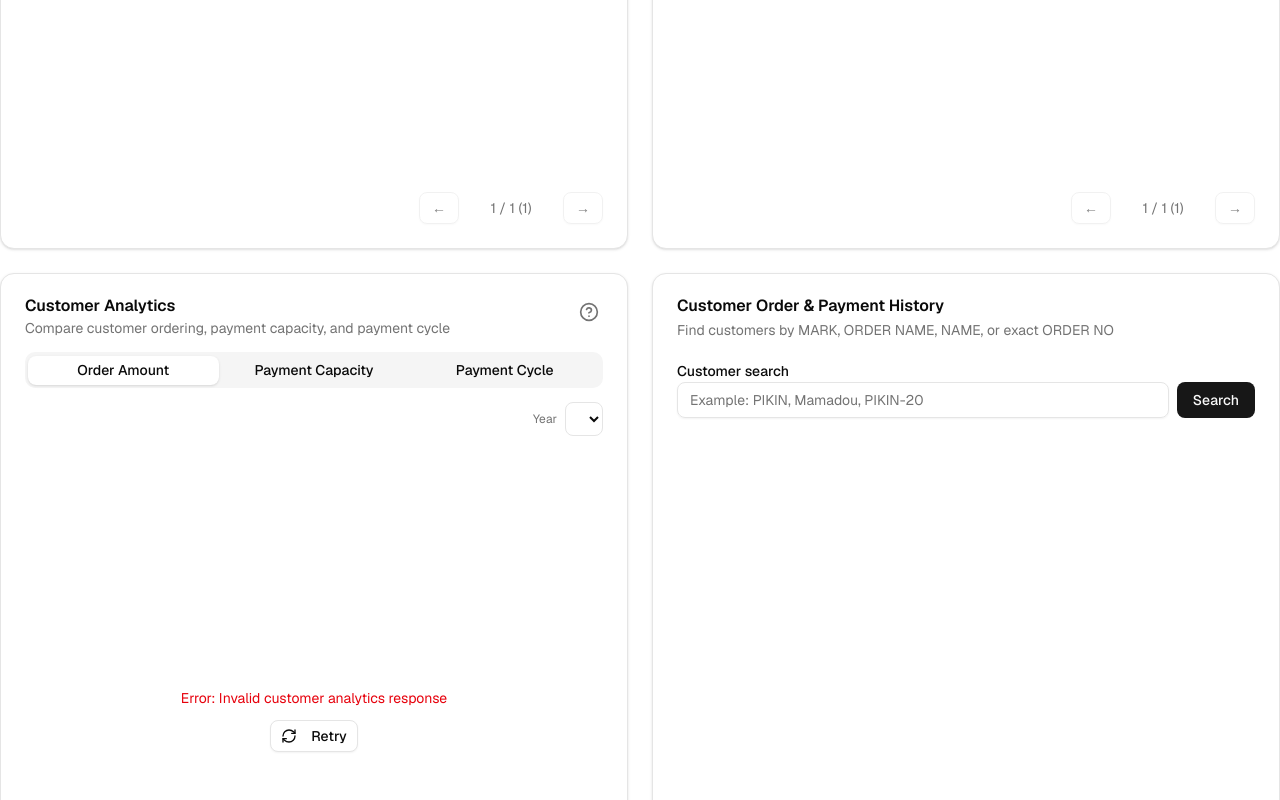
Dashboard customer outstanding status dialog › searches visible customers only on submit and opens all ORDER_NAME history for one customer
(page scrolled)
Type "Mamadou" into the field labelled "Customer search" at (923, 400), box [677,382,1169,418]
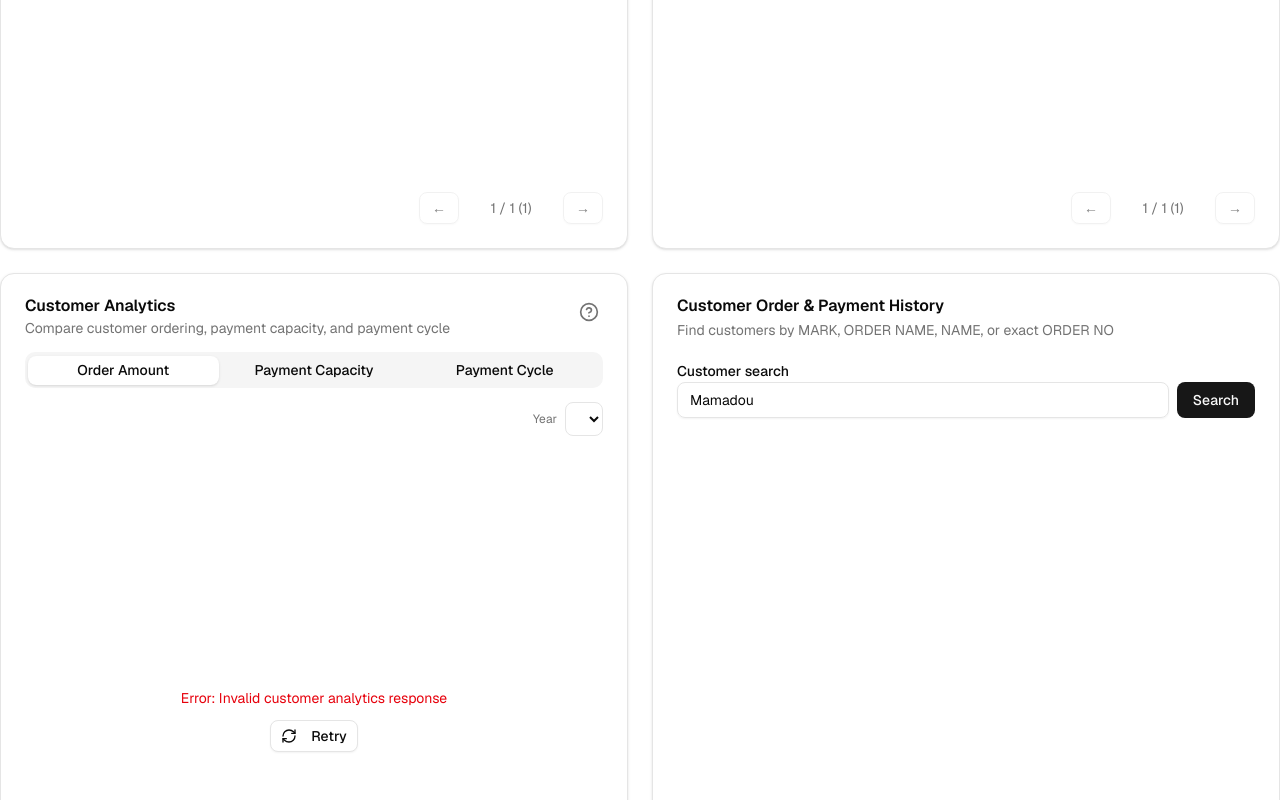
Click the button "Search" at (1216, 400), box [1177,382,1255,418]
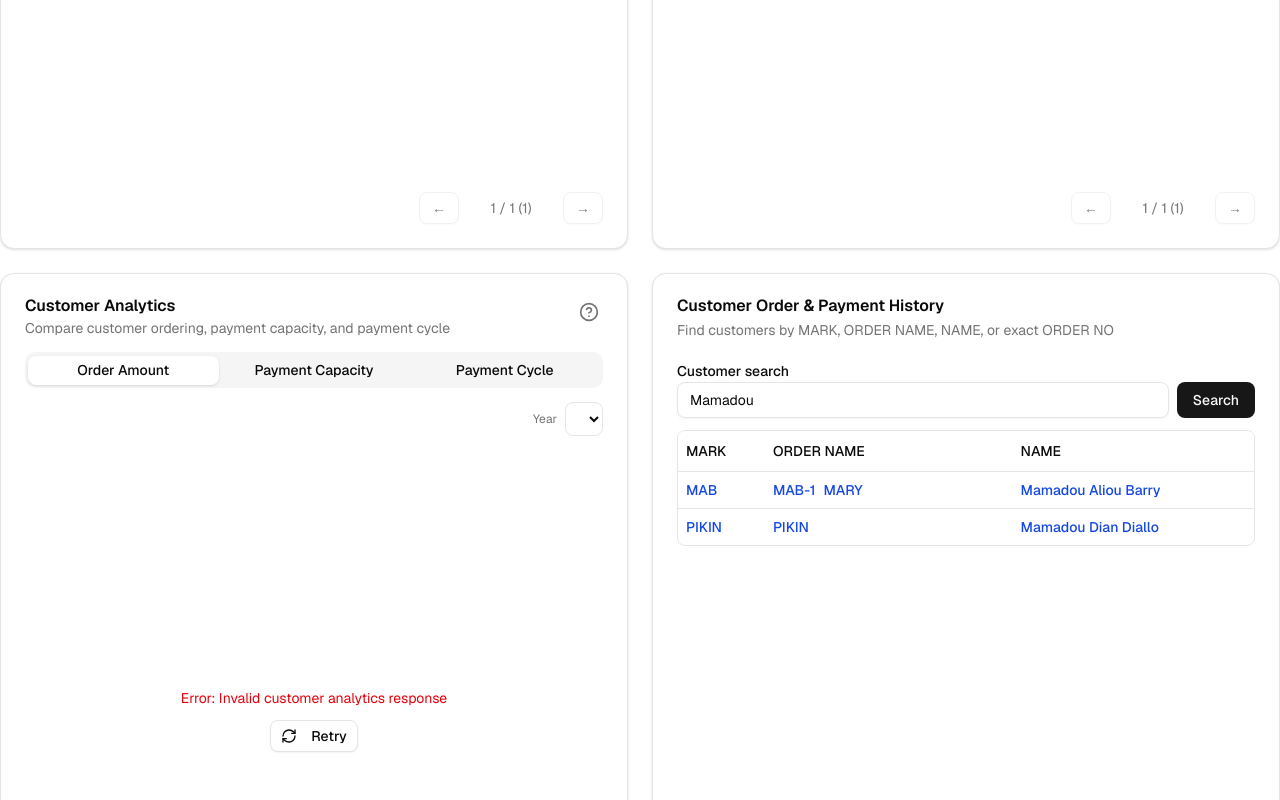
Now the number of buttons "PIKIN" is 2, box [686,516,722,536]; [773,516,809,536]
Now the row "MAB" is shown, box [678,471,1254,508]
Now the button "MAB-1" is shown, box [773,480,815,500]
Click the button "MARY" at (843, 490), box [824,480,863,500]
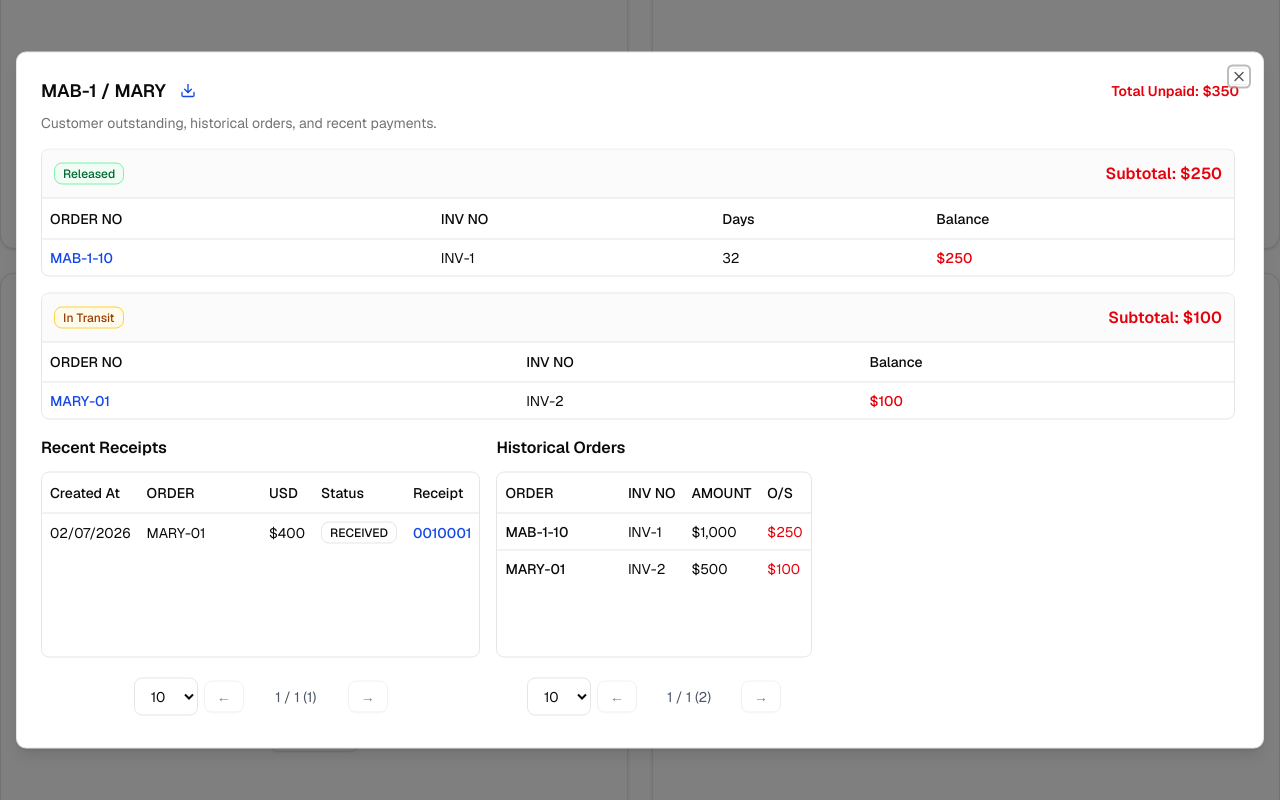
Now the text "MAB-1 / MARY" is shown, box [41,82,166,100]
Now the text "Total Unpaid: $350" is shown, box [1111,80,1239,100]
Now the text "Released" is shown, box [54,162,124,184]
